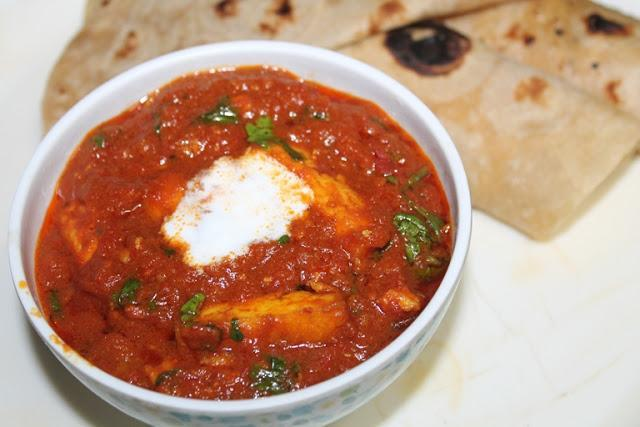paneer: (75, 139, 384, 363)
roti: (453, 6, 640, 215)
